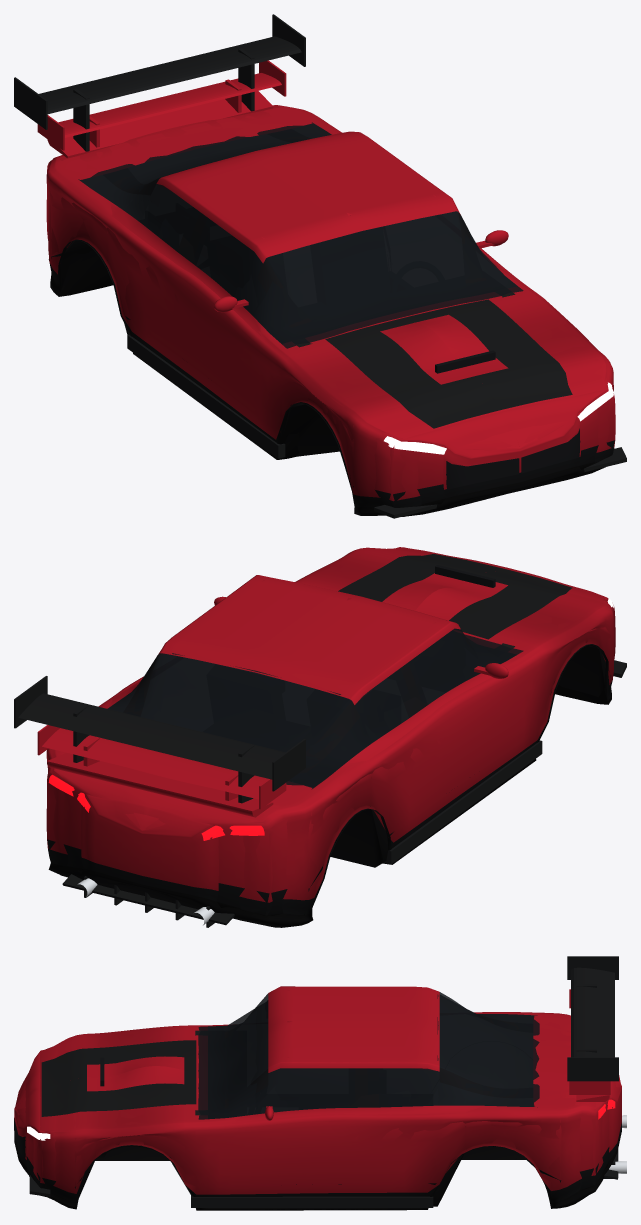
File: sr_nissan_gtr_r35.glb
3 views of the same model, one above another, from view 1: azimuth 30°, elevation 25°; view 2: azimuth 150°, elevation 25°; view 3: azimuth 270°, elevation 25° (orthographic). The views are drawn at different scales.
Parts seen in each view (by area): view 1: body (×2), hood_3, spoiler_3, spoiler_2, hood_1, bumper_1, spoiler_1, grille, headlights, mirrors; view 2: body (×2), spoiler_3, hood_3, spoiler_2, bumper_1, spoiler_1, hood_1, taillights, hood_1_intake; view 3: body (×2), hood_3, spoiler_3, bumper_1, hood_1, spoiler_2.
Boxes of the visible parts, box(x1,y1,x2,y2) form: body (×2): box(46, 105, 615, 516); hood_3: box(325, 299, 572, 428); spoiler_3: box(14, 14, 305, 151); spoiler_2: box(37, 60, 286, 150); hood_1: box(380, 314, 508, 384); bumper_1: box(127, 335, 626, 518); spoiler_1: box(47, 91, 273, 158); grille: box(446, 428, 580, 490); headlights: box(384, 382, 613, 454); mirrors: box(214, 230, 508, 312); body (×2): box(46, 547, 615, 927); spoiler_3: box(14, 676, 305, 803); hood_3: box(338, 554, 572, 639); spoiler_2: box(37, 725, 286, 809); bumper_1: box(62, 660, 626, 927); spoiler_1: box(47, 753, 273, 817); hood_1: box(382, 573, 507, 620); taillights: box(48, 774, 264, 840); hood_1_intake: box(435, 565, 495, 587); body (×2): box(14, 986, 621, 1210); hood_3: box(41, 1040, 196, 1116); spoiler_3: box(567, 956, 618, 1081); bumper_1: box(29, 1149, 618, 1207); hood_1: box(87, 1056, 184, 1091); spoiler_2: box(569, 989, 610, 1094).
Size of the model in its own units: 2.12 by 1.32 by 4.75.
